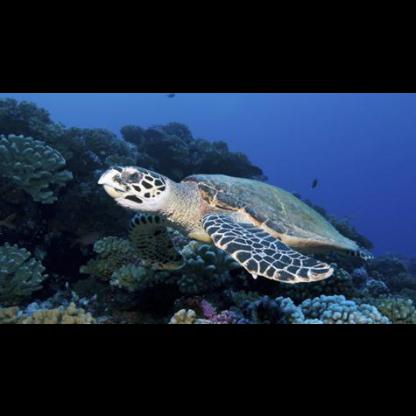turtle: (96, 161, 376, 285)
